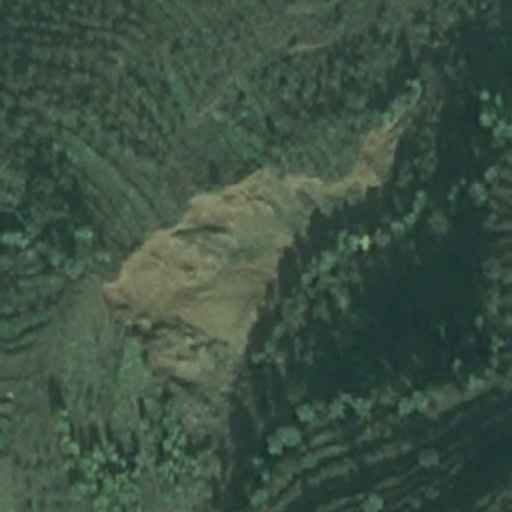landslide: (101, 173, 302, 363)
